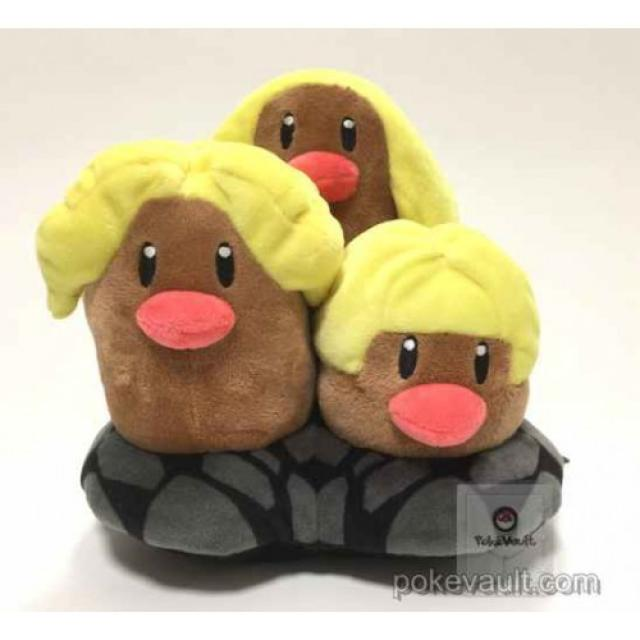Dugtrio: (57, 74, 548, 454)
